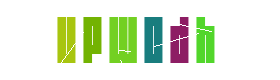D: (113, 0, 193, 80)
H: (139, 0, 219, 80)
O: (113, 0, 193, 80)
P: (94, 0, 174, 80)
U: (38, 0, 118, 80)
W: (101, 0, 181, 80)
